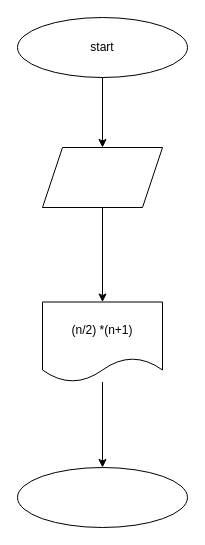
The diagram is 205 pixels wide and 545 high, and some of its shapes have lost their labels. The centre of each missing label's shape, as x and y in pixels:
finish: point (102, 497)
n 입력: point (102, 177)
